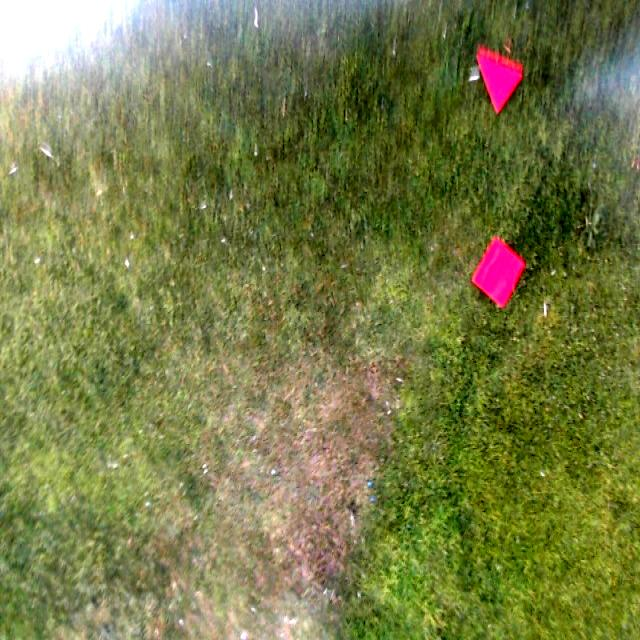red_square: (473, 237, 522, 308)
red_triangle: (476, 52, 524, 113)
